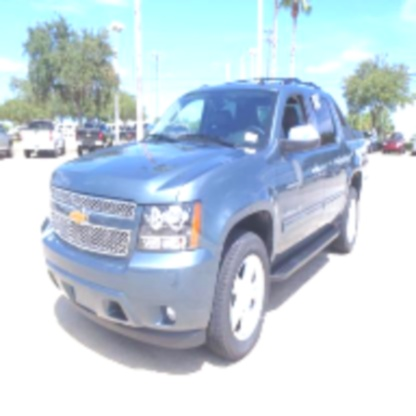Vehicle: (38, 73, 371, 368)
